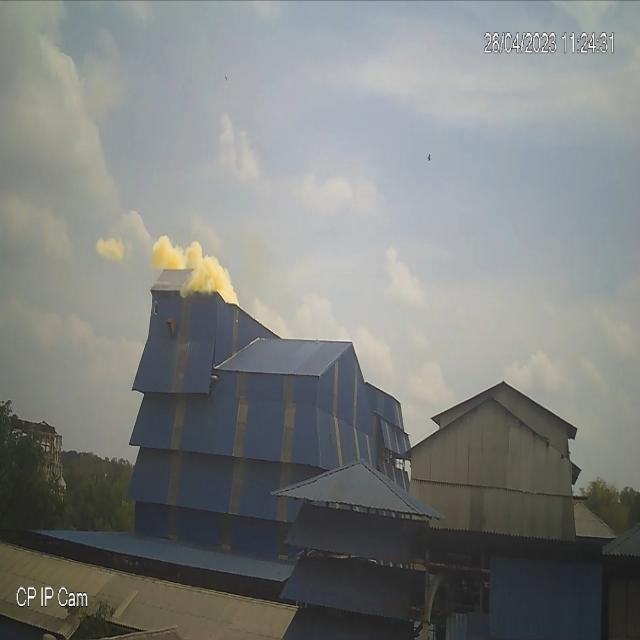yellow smoke: (94, 207, 239, 308), (149, 231, 239, 306)
